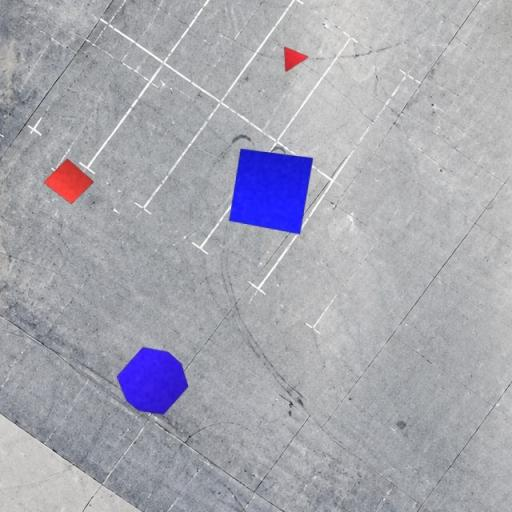BLUE_SQUARE: (229, 148, 314, 235)
RED_SQUARE: (42, 158, 94, 204)
